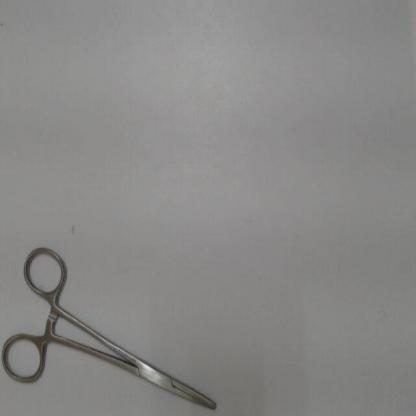Mayo Needle Holder: (0, 235, 224, 415)
